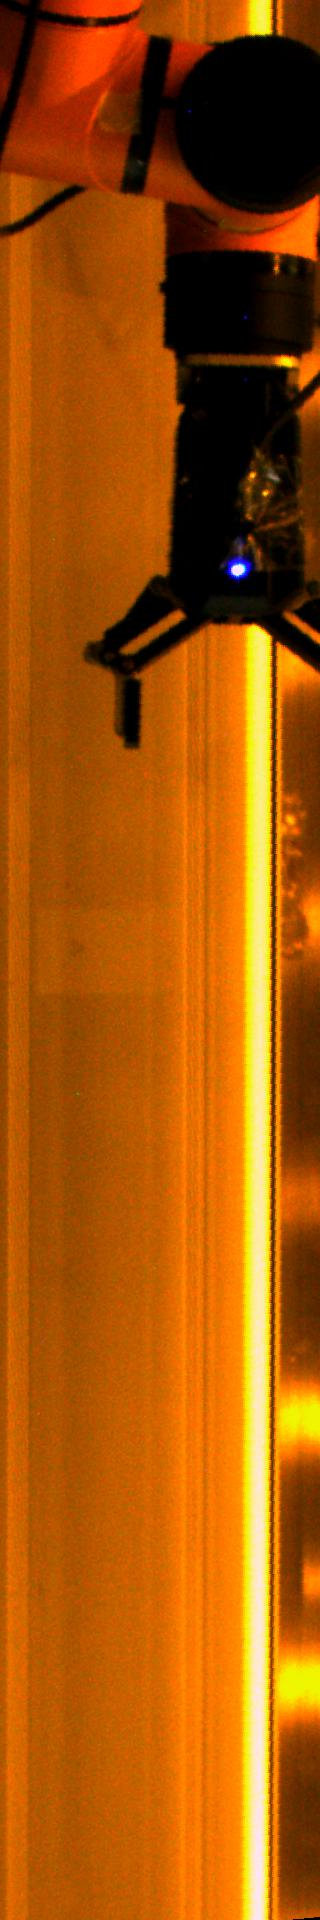keyPoint_1: (224, 555, 254, 585)
